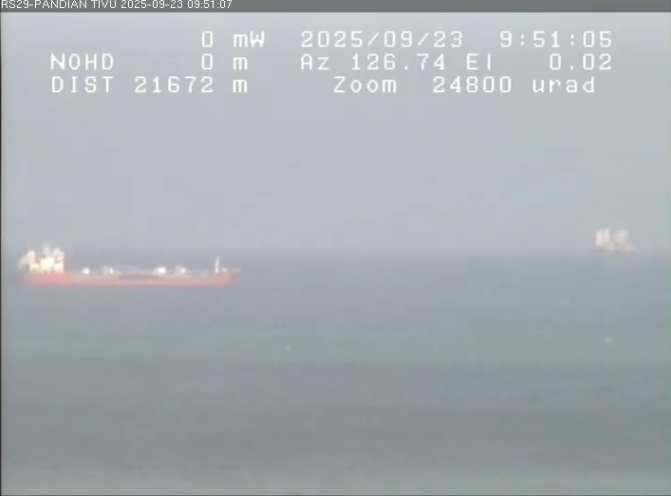CARGO_SHIPS: (1, 207, 263, 302)
